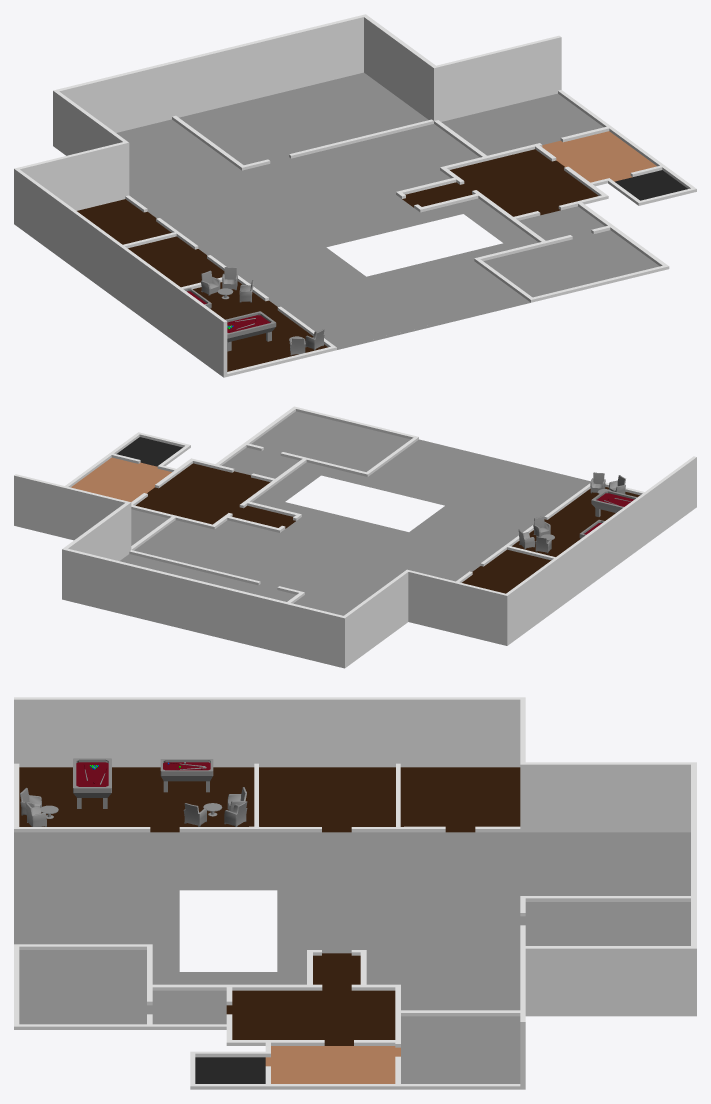
File: Salle_011.FBX
3 renders of one model, top to bottom at view 1: azimuth 30°, elevation 25°; view 2: azimuth 150°, elevation 25°; view 3: azimuth 270°, elevation 25°, orthographic. The views are drawn at different scales.
Visible parts, largest first — view 1: Piece_011, Billard_02; view 2: Piece_011, Billard_02; view 3: Piece_011, Billard_02, Billard_01.
Boxes of the visible parts, box(x1,y1,x2,y2) form: Piece_011: box(14, 14, 696, 377); Billard_02: box(225, 311, 276, 351); Piece_011: box(14, 406, 696, 668); Billard_02: box(591, 489, 636, 516); Piece_011: box(14, 697, 696, 1089); Billard_02: box(73, 758, 111, 808); Billard_01: box(160, 759, 213, 792).
Bounding box in the file's own units: 3085 × 304 × 2744.
